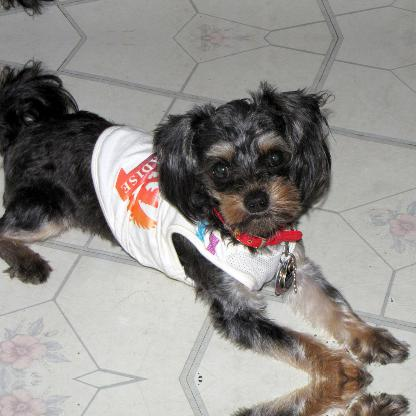Dog: (0, 55, 410, 378)
